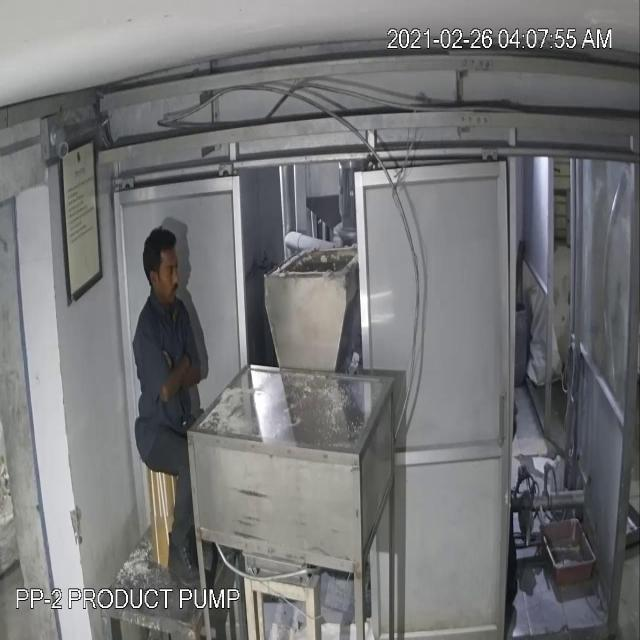no-helmet: (136, 224, 182, 276)
